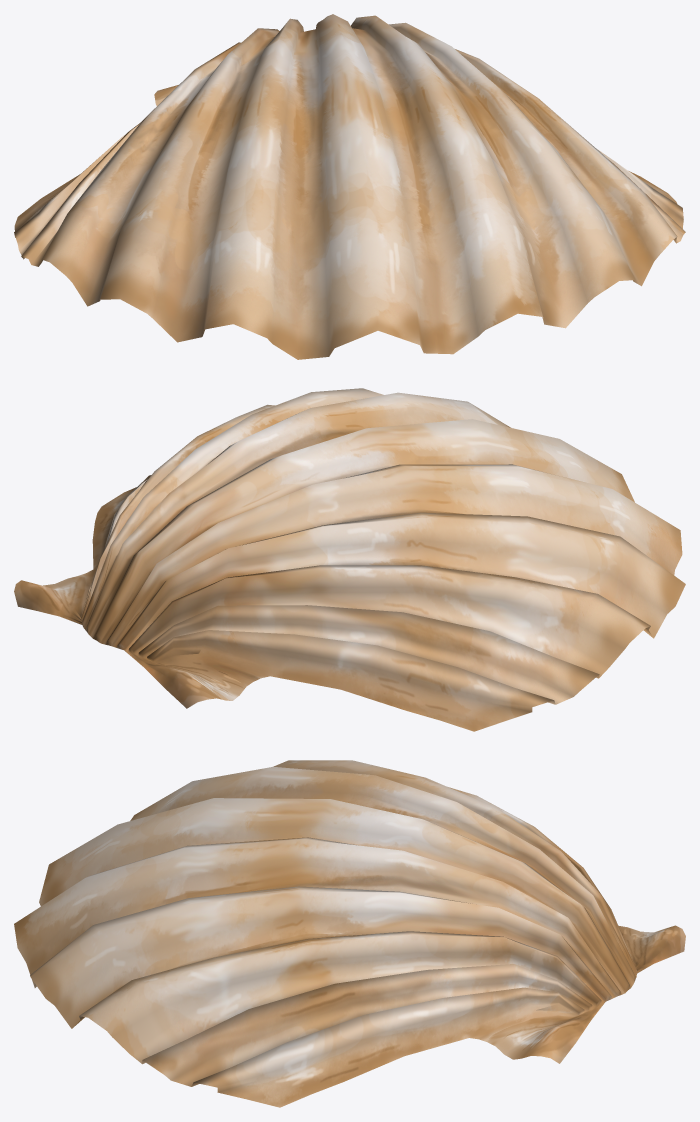
The model's file is concha.fbx.
3 renders of one model, top to bottom at view 1: azimuth 30°, elevation 25°; view 2: azimuth 150°, elevation 25°; view 3: azimuth 270°, elevation 25°, orthographic.
Visible parts, largest first — view 1: seashell:seashell_msh; view 2: seashell:seashell_msh; view 3: seashell:seashell_msh.
Boxes of the visible parts, bbox=[...] form: seashell:seashell_msh: bbox=[14, 14, 685, 359]; seashell:seashell_msh: bbox=[14, 388, 685, 731]; seashell:seashell_msh: bbox=[14, 760, 685, 1107].
Bounding box in the file's own units: 46.61 × 12.88 × 46.87.
1 material, 1 textured.
